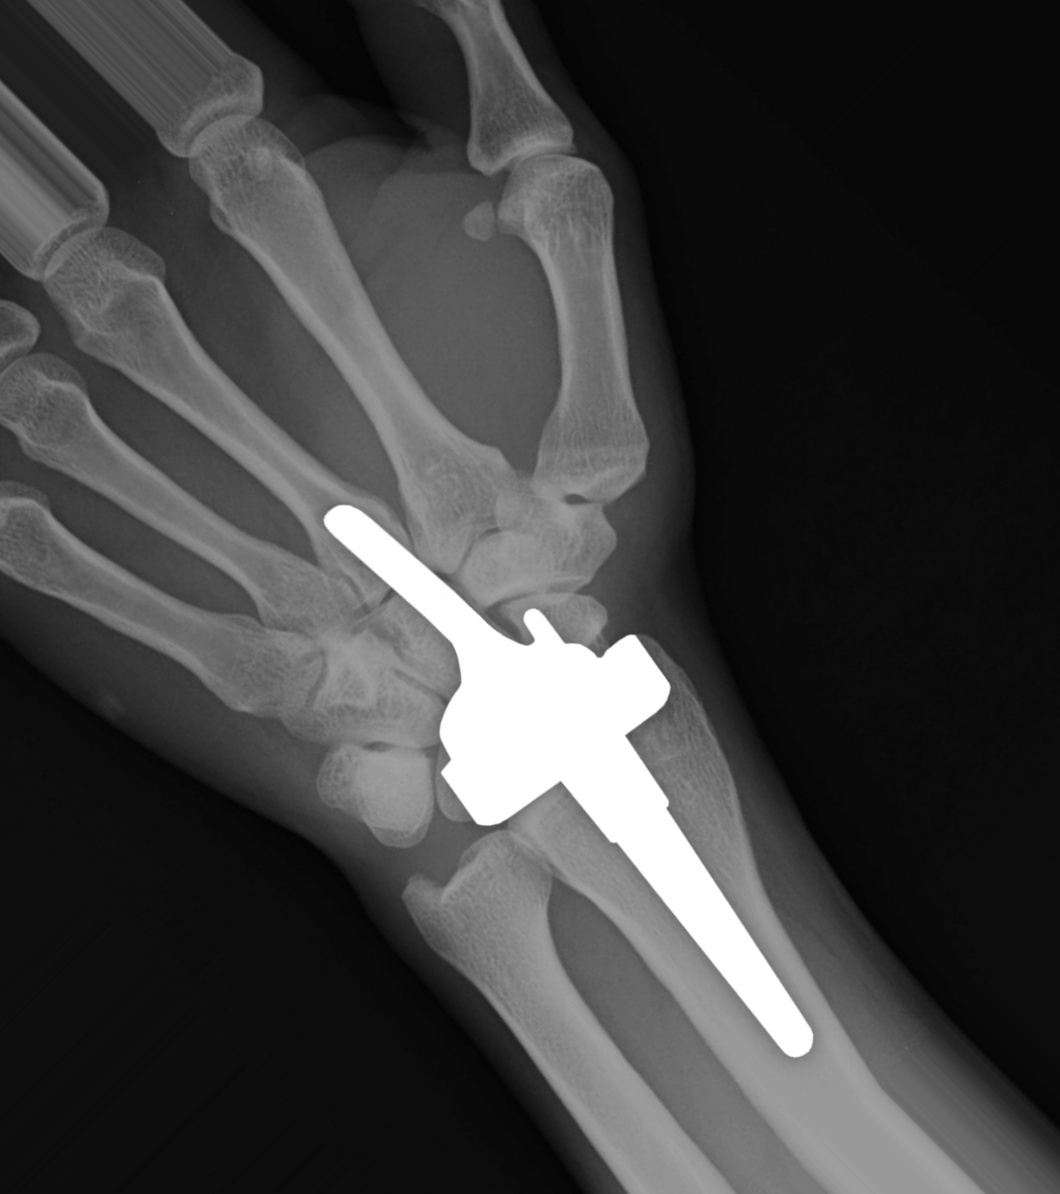Wrist-Biax-DePuuy: (276, 463, 823, 1068)
